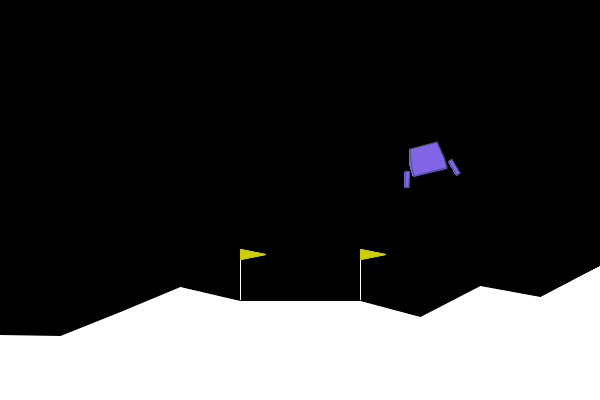lander: (394, 137, 462, 190)
